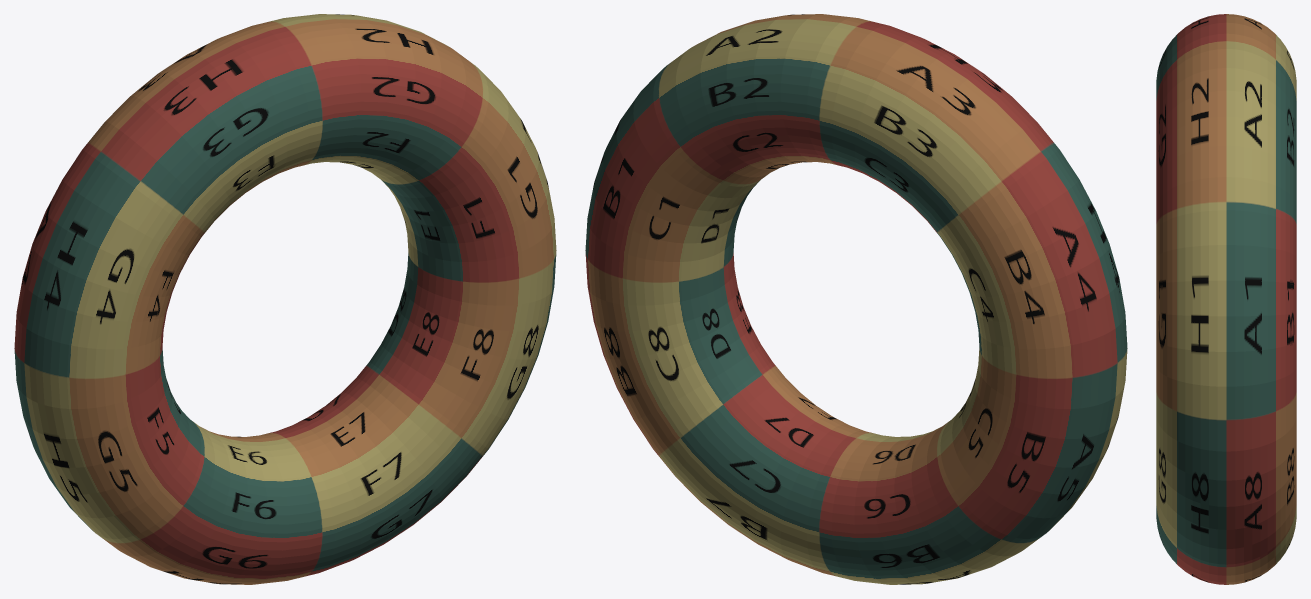
The model's file is texture_torus_R20_r21.glb.
3 renders of one model, left to right at view 1: azimuth 30°, elevation 25°; view 2: azimuth 150°, elevation 25°; view 3: azimuth 270°, elevation 25°, orthographic. The views are drawn at different scales.
Parts seen in each view (by area): view 1: world; view 2: world; view 3: world.
Boxes of the visible parts, <box> form: world: <box>14,14,556,584</box>; world: <box>585,14,1127,584</box>; world: <box>1156,14,1296,584</box>.
Size of the model in its own units: 30.93 by 30.87 by 7.59.
1 material, 1 textured.
